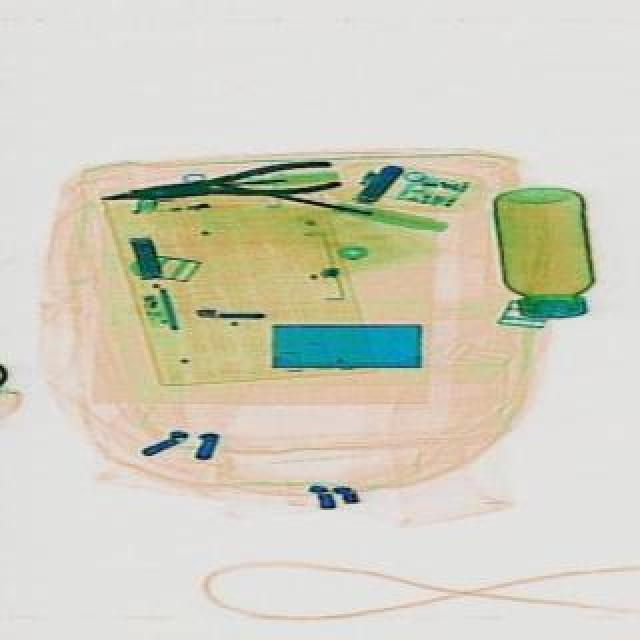wrench: (96, 154, 338, 214)
